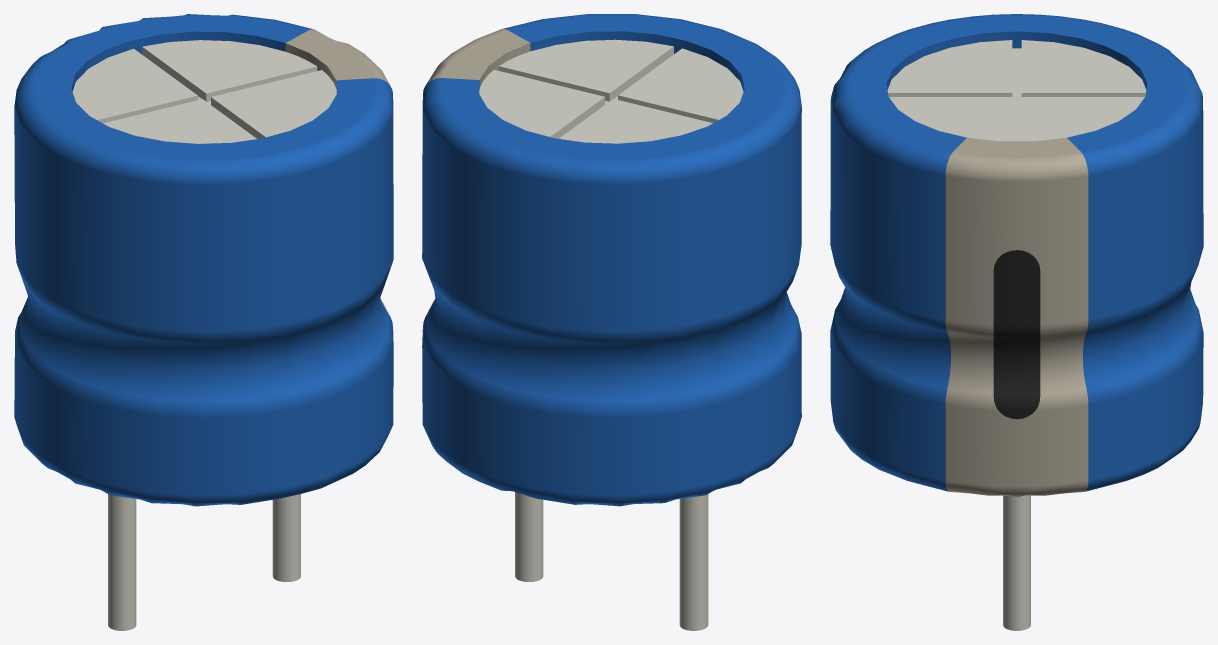
The model's file is Capacitor_THT__CP_Radial_D4.0mm_P2.00mm.glb.
3 views of the same model, side by side, from view 1: azimuth 30°, elevation 25°; view 2: azimuth 150°, elevation 25°; view 3: azimuth 270°, elevation 25° (orthographic).
Parts seen in each view (by area): view 1: CP_Radial_D40mm_P200mm; view 2: CP_Radial_D40mm_P200mm; view 3: CP_Radial_D40mm_P200mm.
Boxes of the visible parts, x1,y1,x2,y2 form: CP_Radial_D40mm_P200mm: (14,14,393,630); CP_Radial_D40mm_P200mm: (422,14,801,630); CP_Radial_D40mm_P200mm: (830,14,1203,630).
Bounding box in the file's own units: 0.004 × 0.006 × 0.004.
